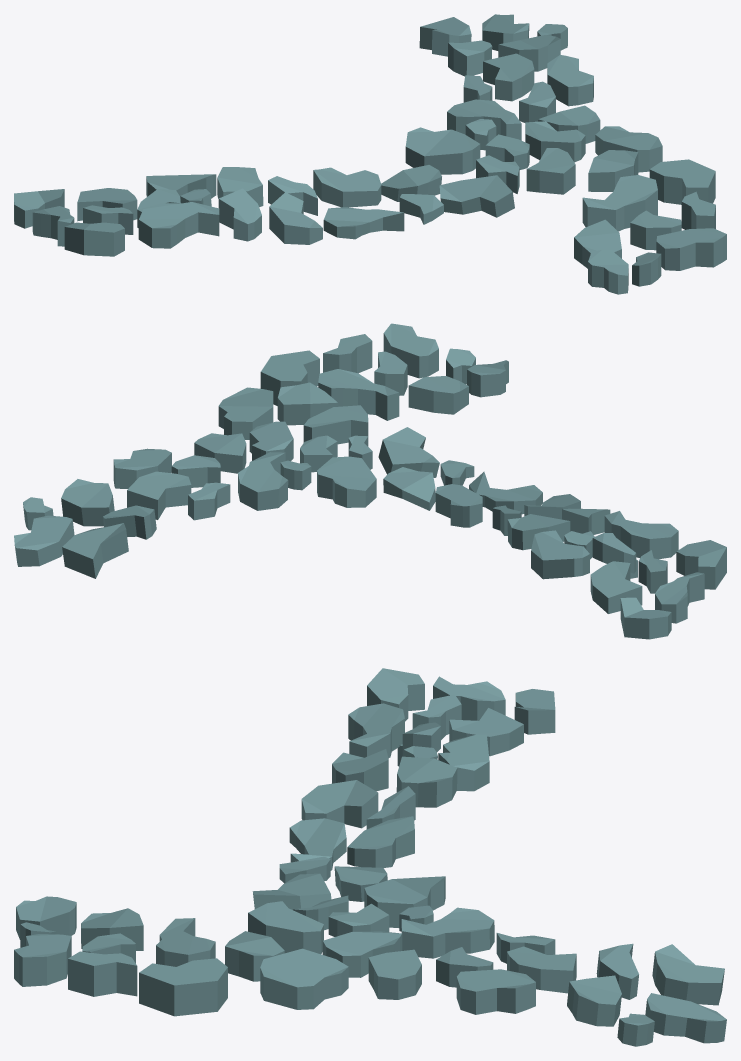
The model's file is fbTrack2.fbx.
3 views of the same model, one above another, from view 1: azimuth 30°, elevation 25°; view 2: azimuth 150°, elevation 25°; view 3: azimuth 270°, elevation 25° (orthographic). The views are drawn at different scales.
Visible parts, largest first — view 1: pCube536; view 2: pCube536; view 3: pCube536.
Part boxes in pixels (box(x1,y1,x2,y2)): pCube536: box(14, 14, 726, 294); pCube536: box(14, 323, 726, 639); pCube536: box(14, 668, 726, 1046).
Size of the model in its own units: 3.67 by 0.2856 by 3.26.
